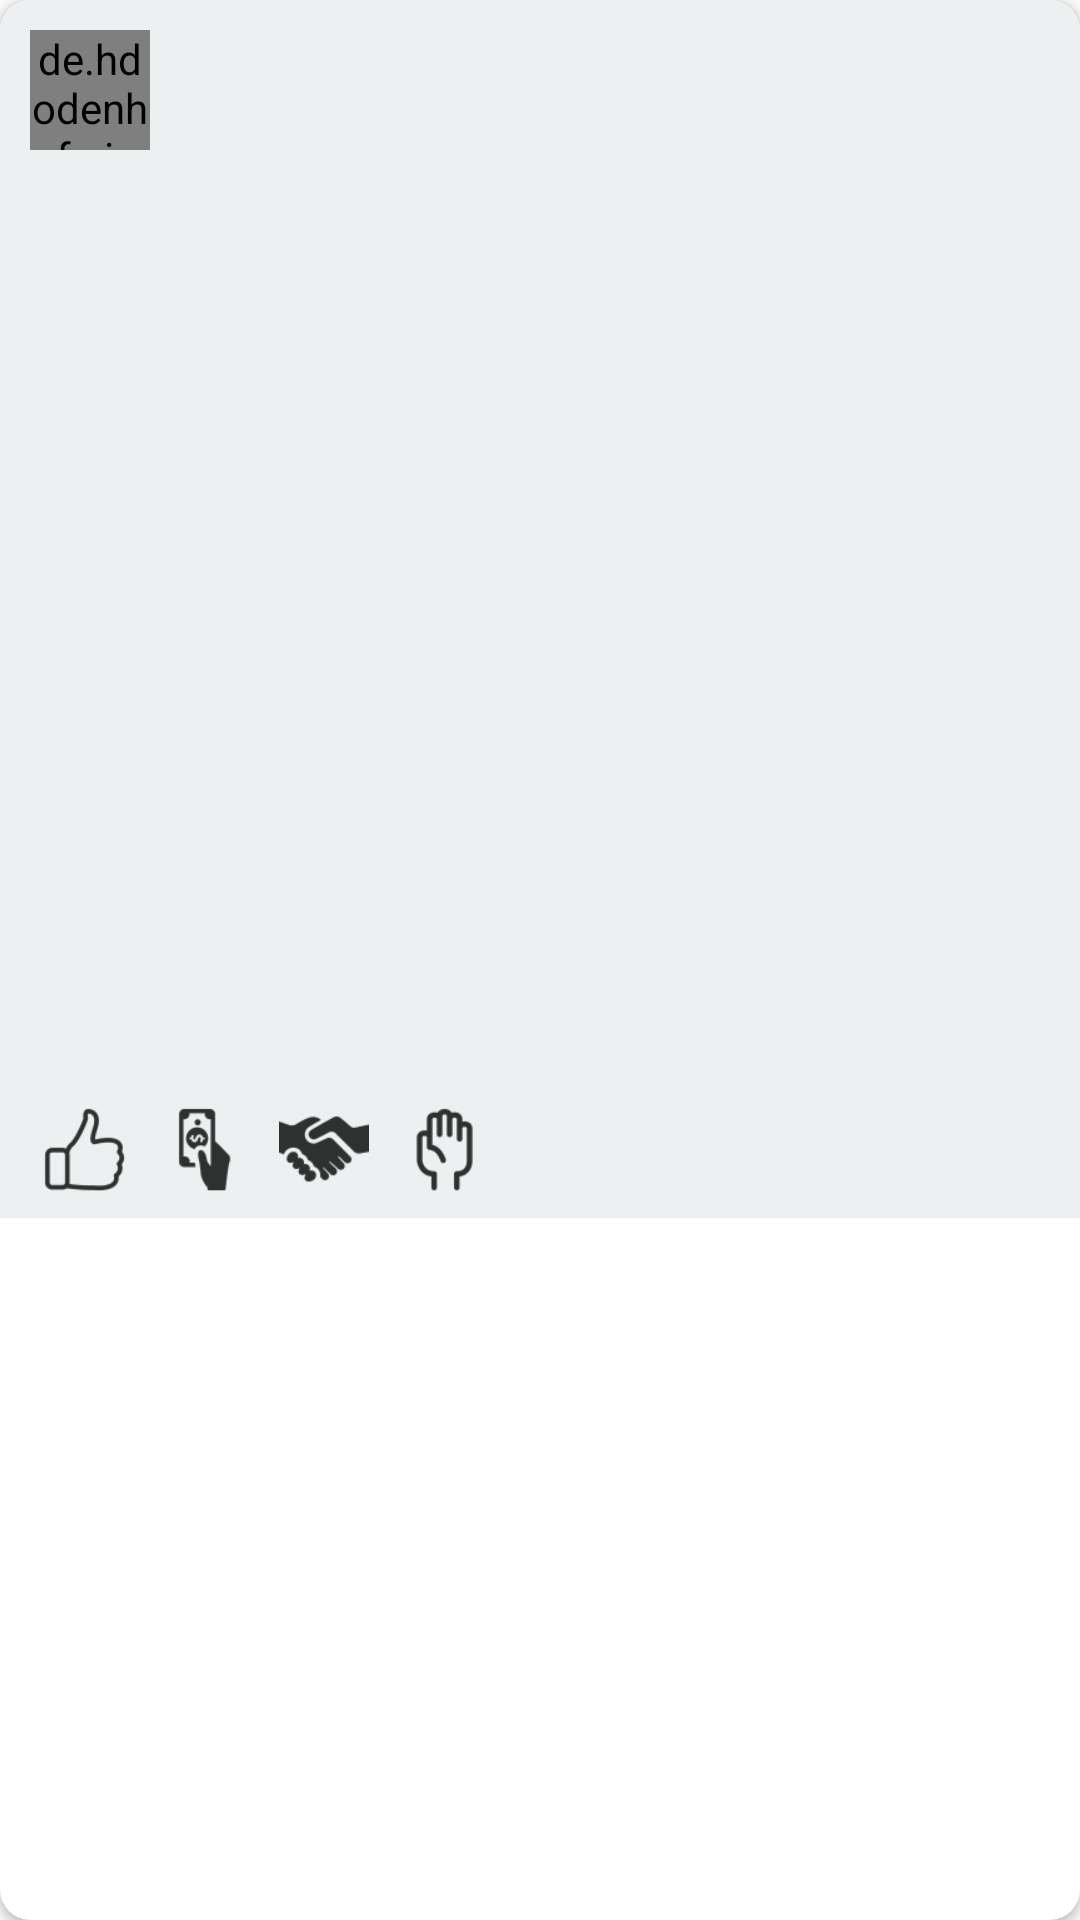

Icon click points for this 1080 × 1920 phone screenshot, format [x,y]:
donation empty: [205,1150]
join hands empty: [324,1149]
like empty: [85,1150]
volunteer empty: [444,1150]
